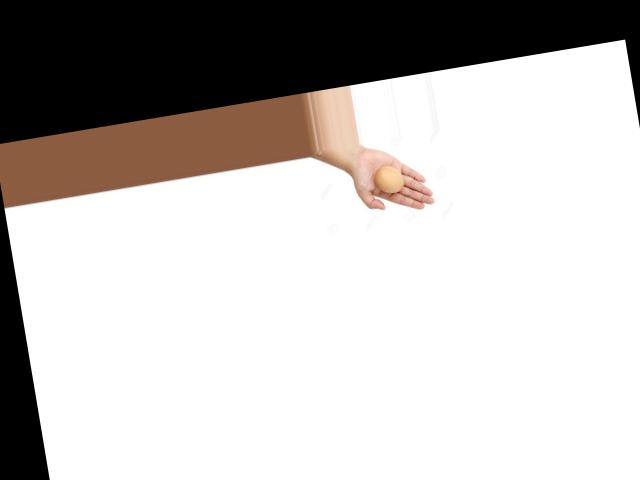egg: (371, 163, 404, 195)
